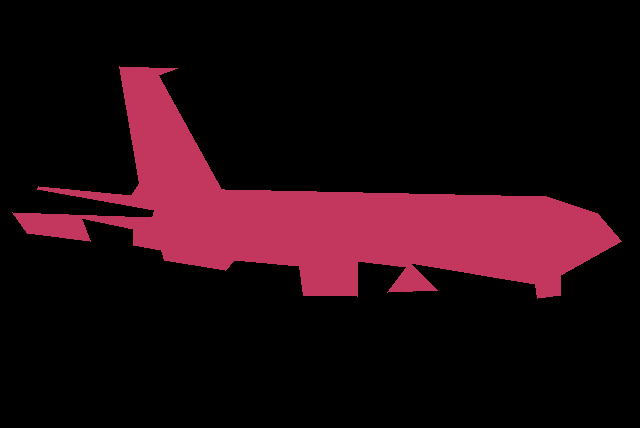Airplane: (12, 66, 621, 298)
